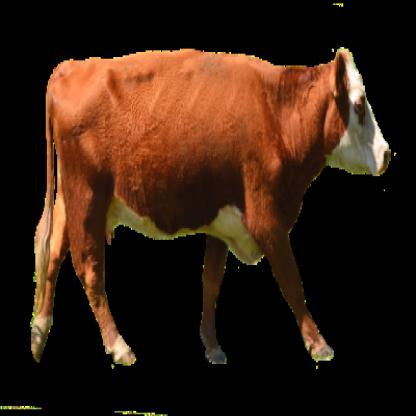mouth: (370, 133, 392, 180)
upper: (380, 142, 392, 170)
